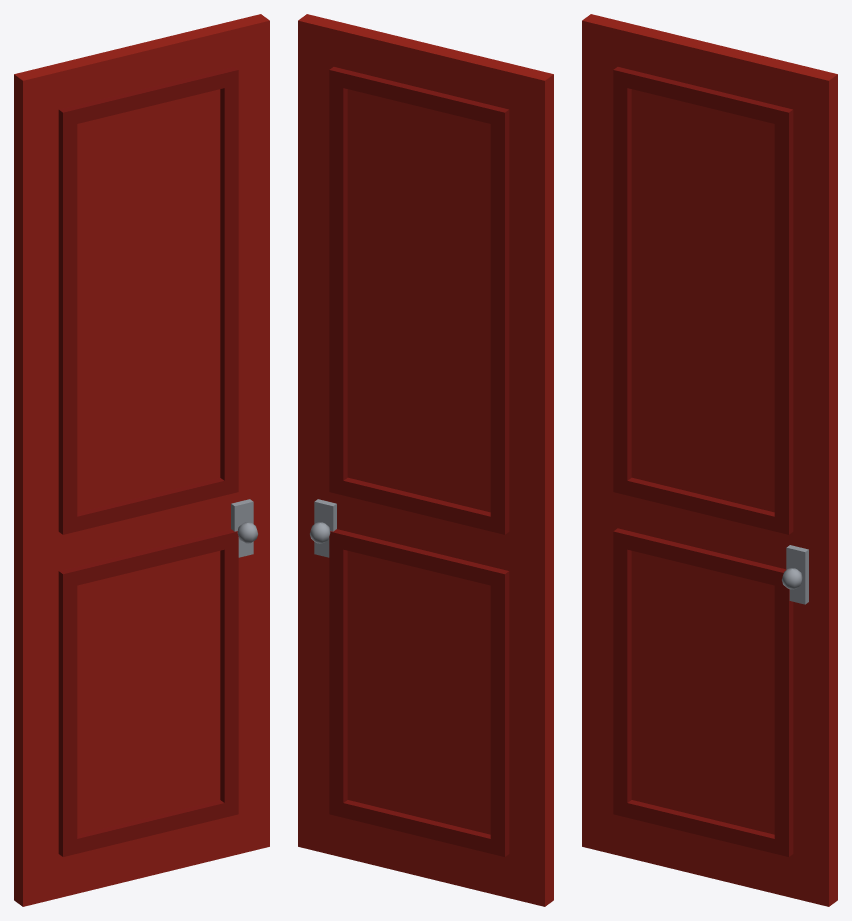
The model's file is SM_Door_slifer_80x253.fbx.
The picture shows the model from 3 angles, left to right: view 1: azimuth 30°, elevation 25°; view 2: azimuth 150°, elevation 25°; view 3: azimuth 330°, elevation 25°; orthographic projection.
Parts seen in each view (by area): view 1: SM_Door_slifer_80x253; view 2: SM_Door_slifer_80x253; view 3: SM_Door_slifer_80x253.
Boxes of the visible parts, <box> form: SM_Door_slifer_80x253: <box>14,14,269,906</box>; SM_Door_slifer_80x253: <box>298,14,553,906</box>; SM_Door_slifer_80x253: <box>582,14,837,906</box>.
Size of the model in its own units: 0.788 by 2.52 by 0.19.
